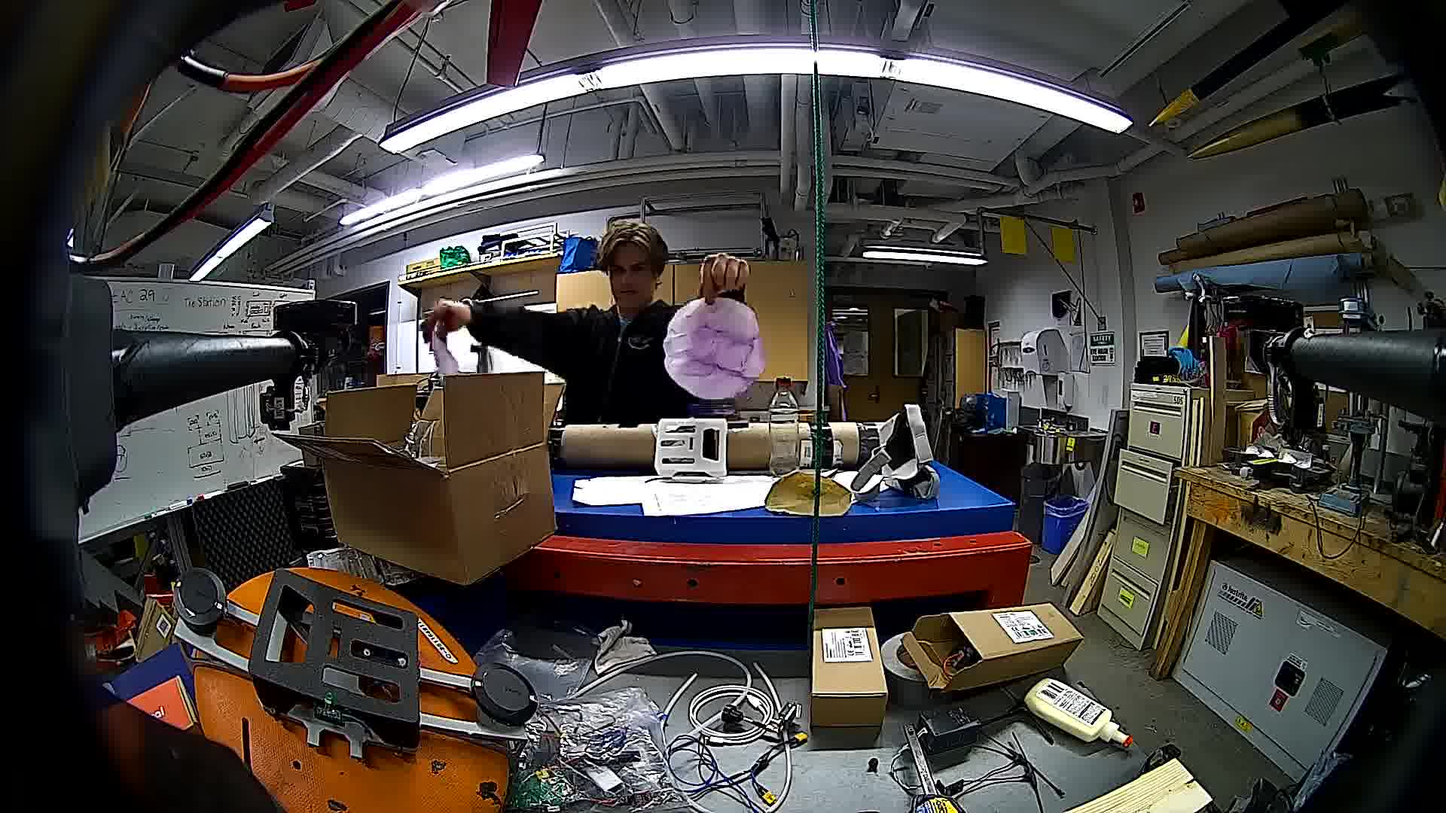Target: (664, 297, 767, 400)
